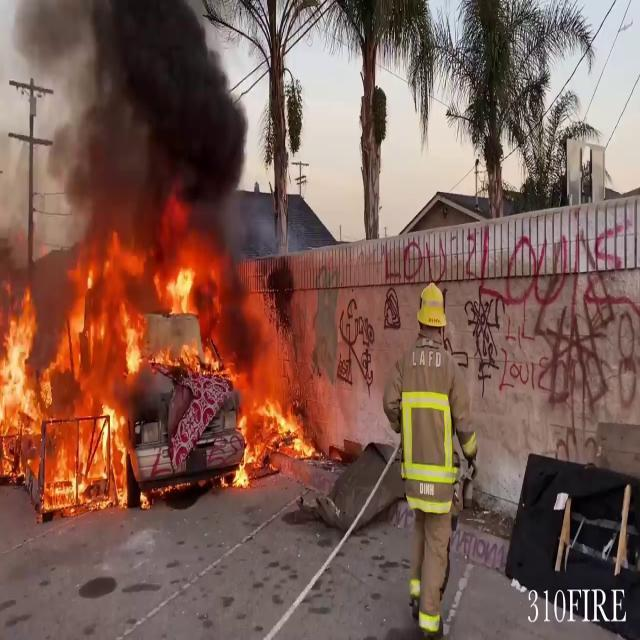Fire: (0, 211, 324, 505)
Smoke: (22, 0, 264, 232)
